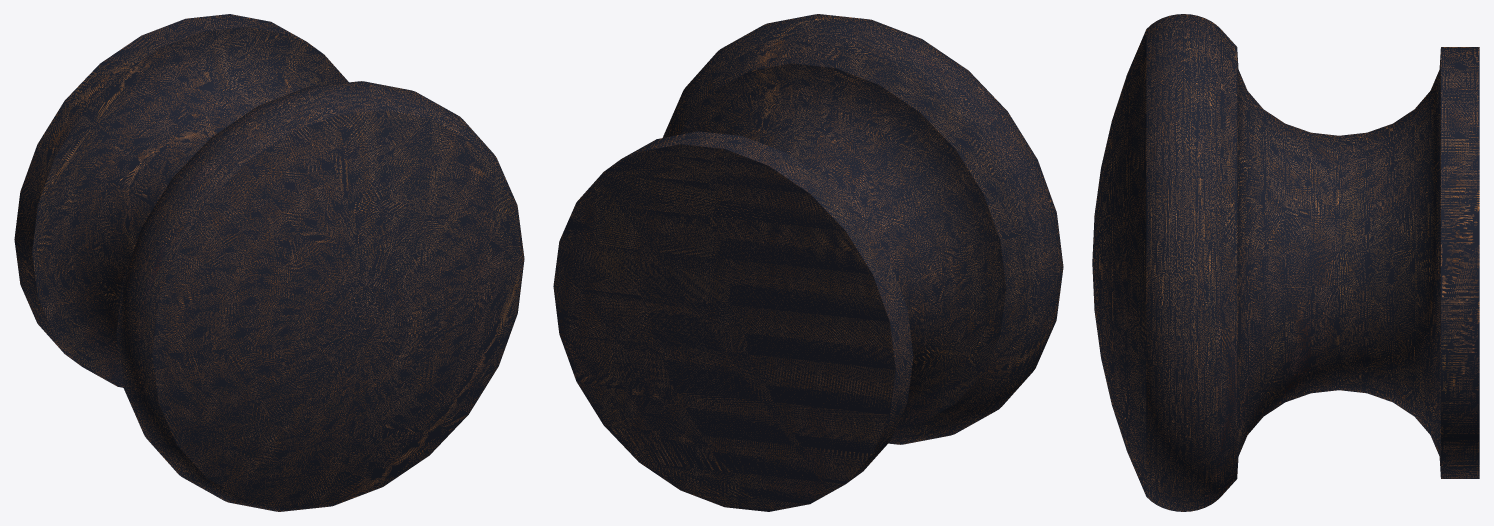
Rendered from original-18.obj.
3 views of the same model, side by side, from view 1: azimuth 30°, elevation 25°; view 2: azimuth 150°, elevation 25°; view 3: azimuth 270°, elevation 25° (orthographic). The views are drawn at different scales.
Visible parts, largest first — view 1: knob_2_2/knob_2/mesh12/mesh12-geometry#mesh12-geometry; view 2: knob_2_2/knob_2/mesh12/mesh12-geometry#mesh12-geometry; view 3: knob_2_2/knob_2/mesh12/mesh12-geometry#mesh12-geometry.
Boxes of the visible parts, x1=… form: knob_2_2/knob_2/mesh12/mesh12-geometry#mesh12-geometry: x1=14, y1=14, x2=524, y2=511; knob_2_2/knob_2/mesh12/mesh12-geometry#mesh12-geometry: x1=553, y1=14, x2=1063, y2=511; knob_2_2/knob_2/mesh12/mesh12-geometry#mesh12-geometry: x1=1092, y1=14, x2=1479, y2=511.
Bounding box in the file's own units: 0.0368 × 0.0368 × 0.0285.
